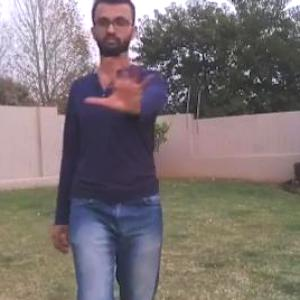follow_hand: (83, 47, 159, 114)
